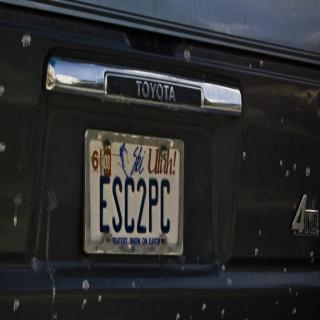license: (85, 130, 185, 256)
